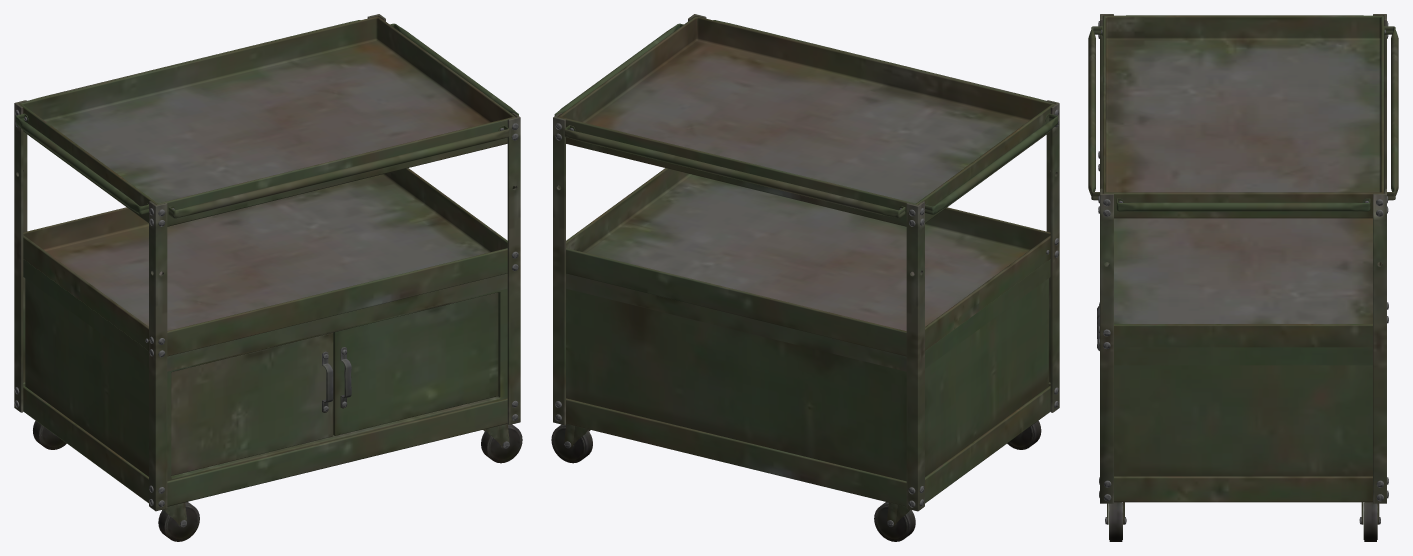
The model's file is industrial_storage_cart.glb.
3 renders of one model, left to right at view 1: azimuth 30°, elevation 25°; view 2: azimuth 150°, elevation 25°; view 3: azimuth 270°, elevation 25°, orthographic.
Visible parts, largest first — view 1: industrial_storage_cart; view 2: industrial_storage_cart; view 3: industrial_storage_cart.
Part boxes in pixels (<box>): industrial_storage_cart: <box>14,14,522,541</box>; industrial_storage_cart: <box>551,14,1059,541</box>; industrial_storage_cart: <box>1088,14,1398,541</box>.
Size of the model in its own units: 1.6 by 1.38 by 1.1.
1 material, 1 textured.
